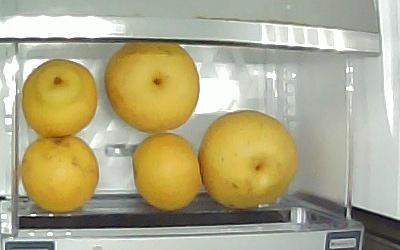pear: (199, 111, 298, 210), (104, 42, 200, 135), (22, 60, 98, 138), (21, 138, 100, 213), (133, 133, 204, 211)
